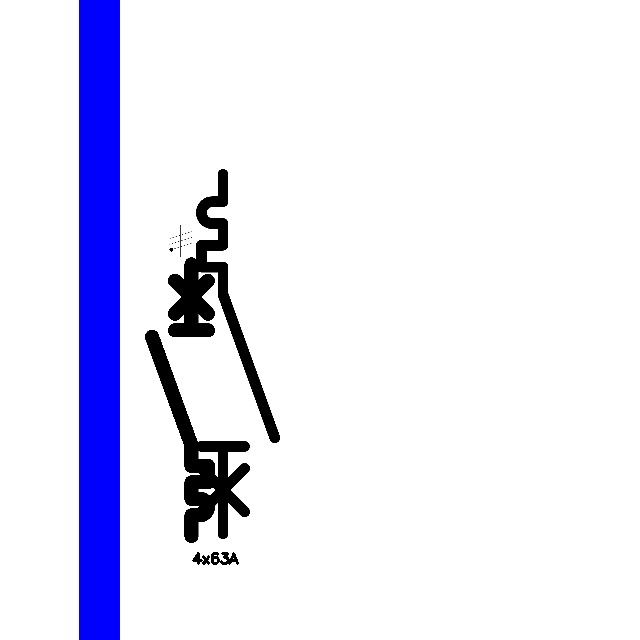interruptor_termomagnetico: (192, 165, 284, 543), (145, 257, 215, 543)
